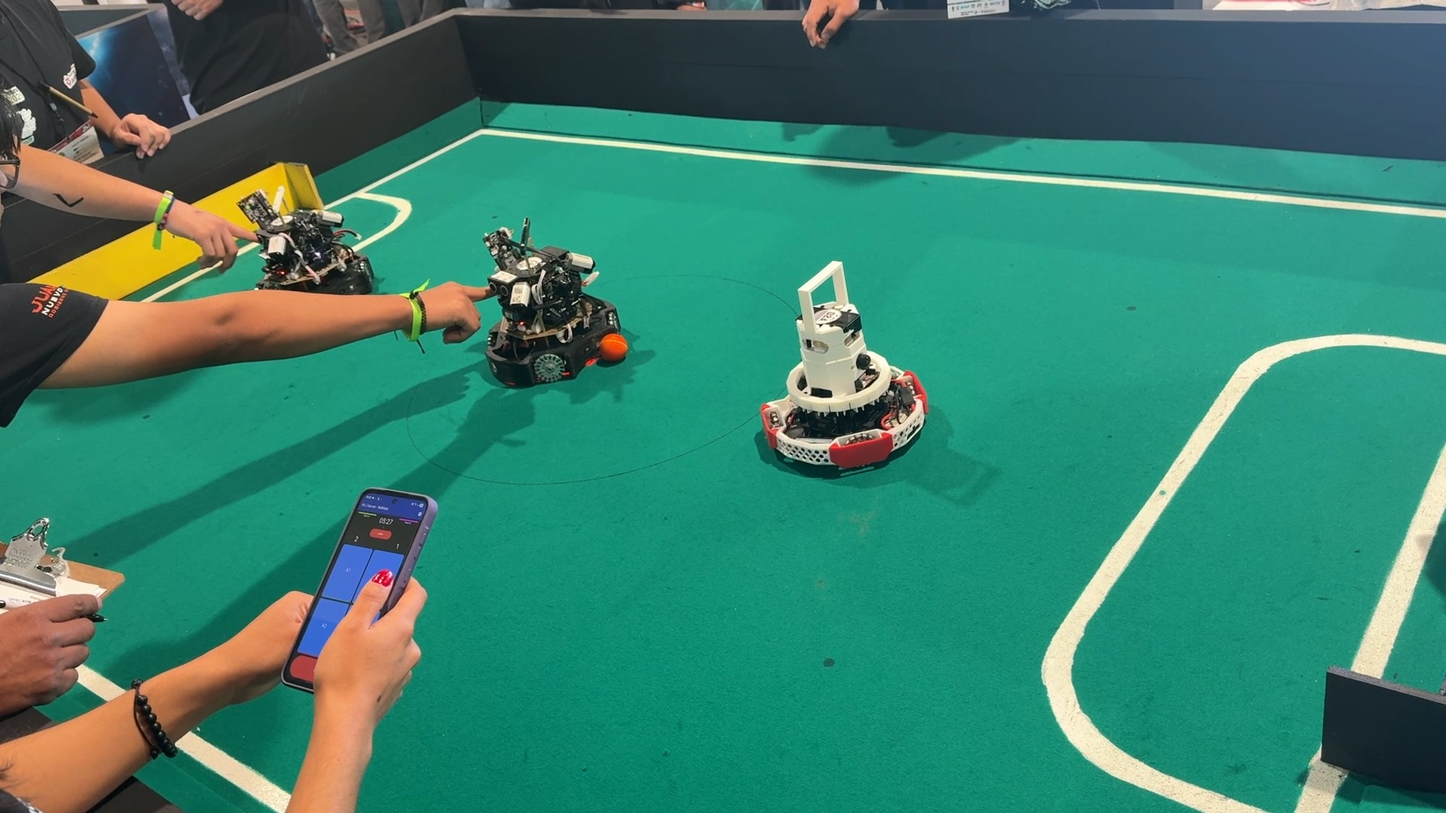Robot: (755, 247, 932, 490), (221, 163, 399, 341), (479, 221, 633, 397)
pelota: (596, 331, 628, 363)
